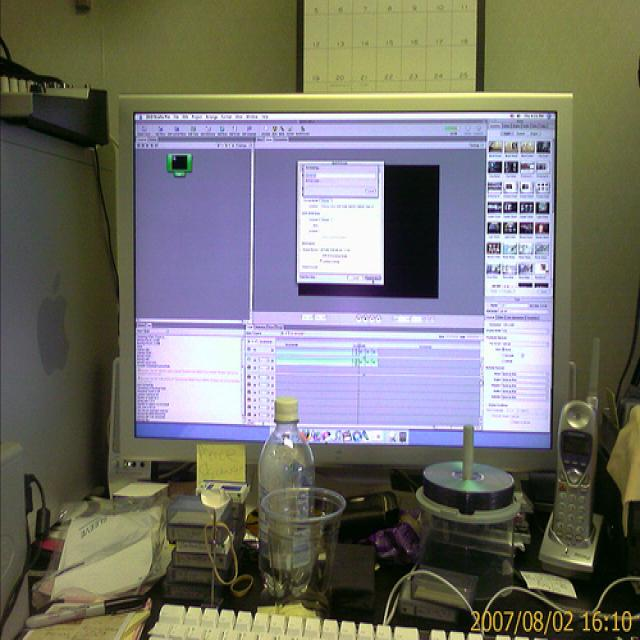bottle: (257, 398, 316, 599)
tvmonitor: (117, 94, 575, 475)
